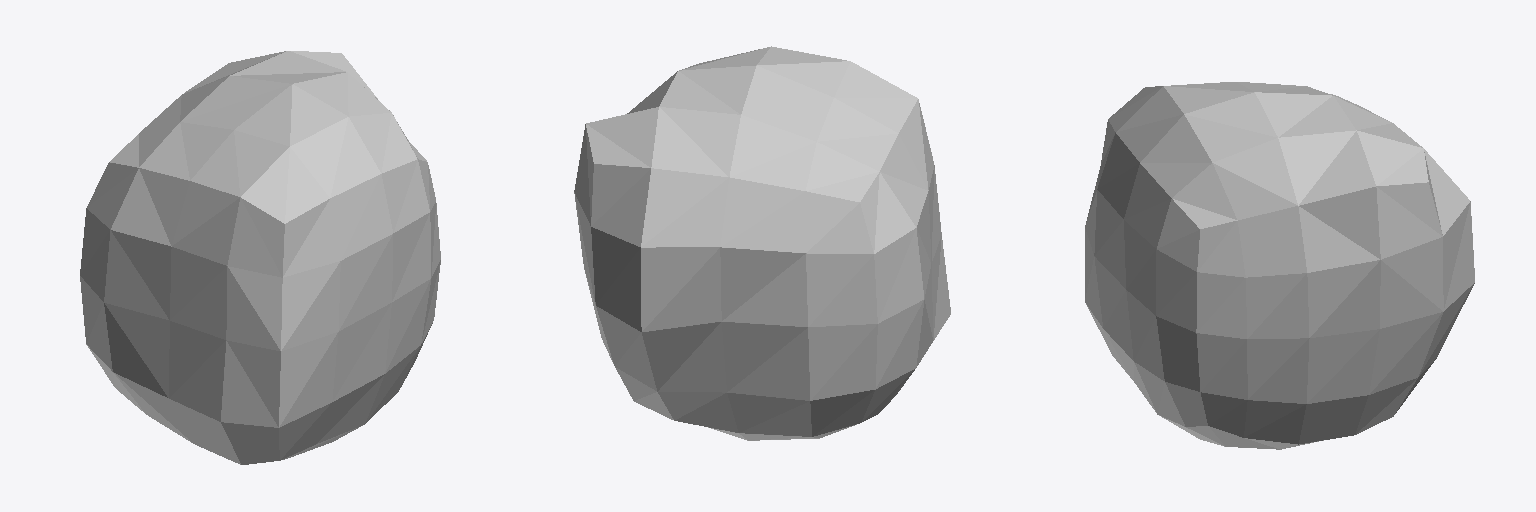
Rendered from PM3D_rock039_001.OBJ.
3 renders of one model, left to right at view 1: azimuth 30°, elevation 25°; view 2: azimuth 150°, elevation 25°; view 3: azimuth 270°, elevation 25°, orthographic.
Parts seen in each view (by area): view 1: Group40418; view 2: Group40418; view 3: Group40418.
Part boxes in pixels (x1,y1,x2,y2): Group40418: (80, 51, 440, 464); Group40418: (574, 46, 950, 440); Group40418: (1085, 82, 1474, 449).
Bounding box in the file's own units: 1096 × 1192 × 1202.